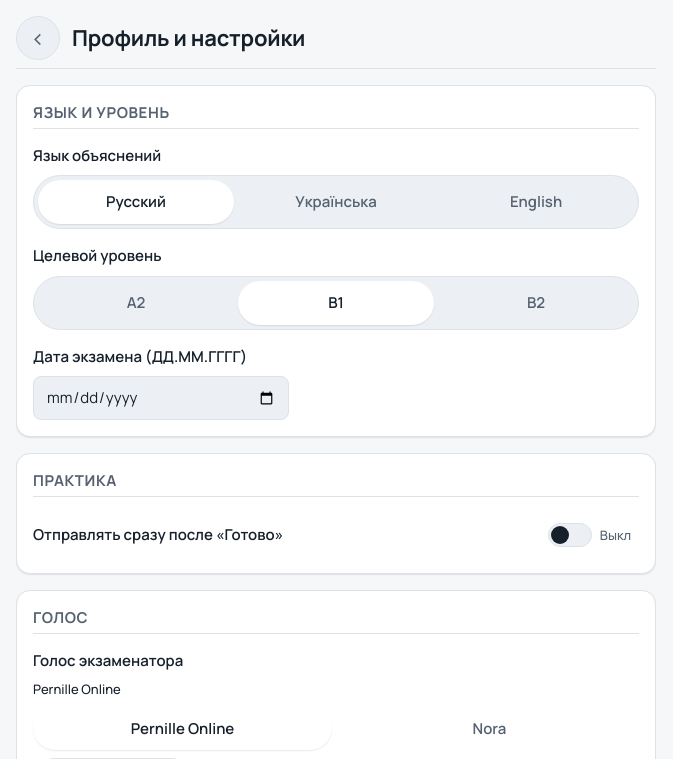
it: #51 voice interface › the profile page shows the voice, lets the learner choose and test it
The image size is (673, 759).
Click the radio button labelled "Nora": (490,728) [340,706,639,750]
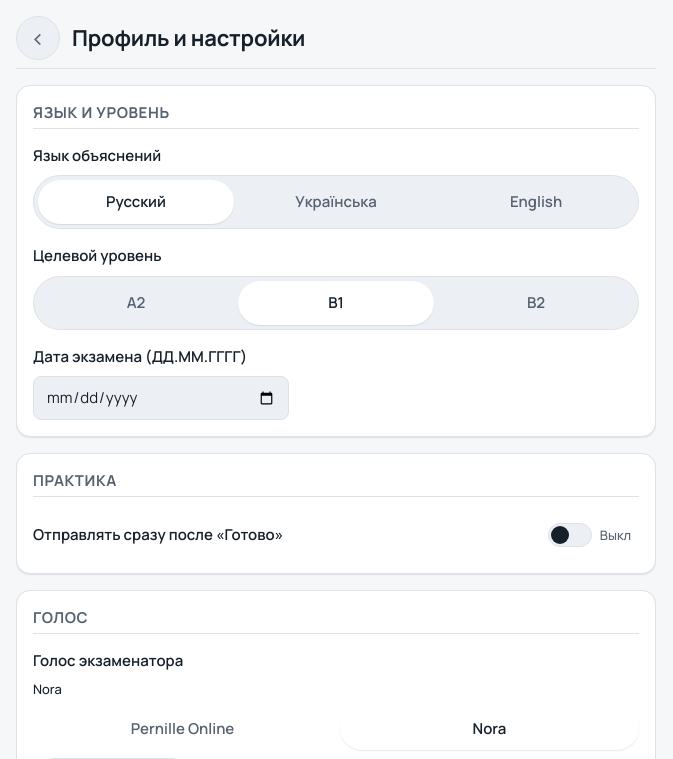
Result: the text "Nora" is shown at [33,680,62,698]
